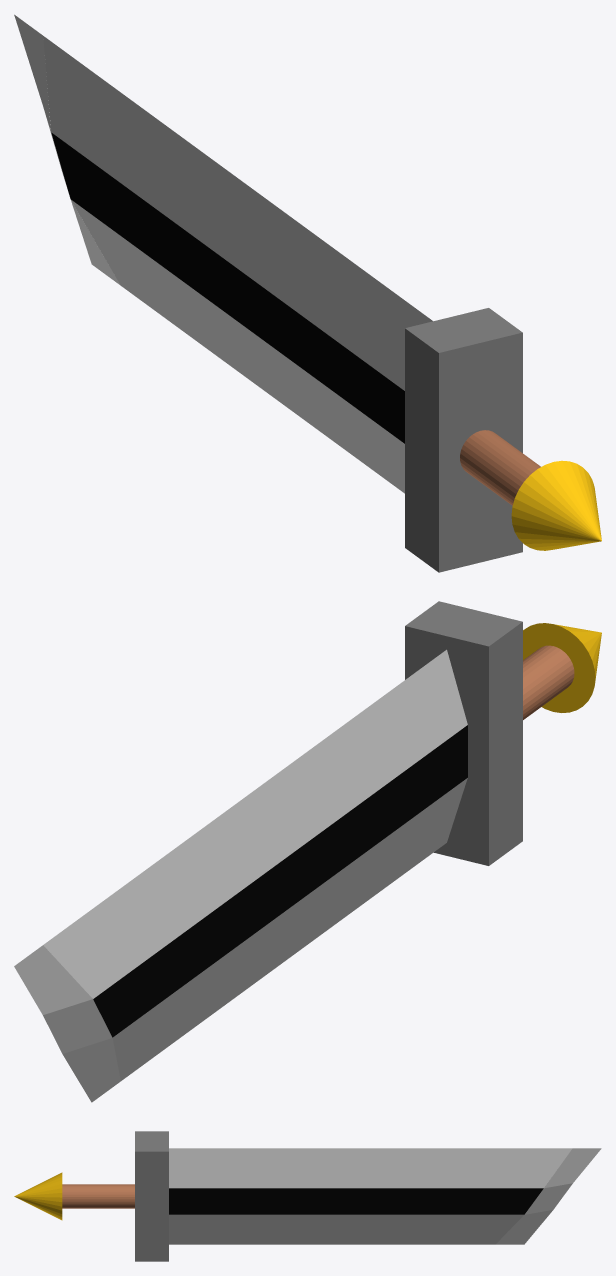
The model's file is bigsword.obj.
The picture shows the model from 3 angles, top to bottom: view 1: azimuth 30°, elevation 25°; view 2: azimuth 150°, elevation 25°; view 3: azimuth 270°, elevation 25°; orthographic projection. The views are drawn at different scales.
Parts seen in each view (by area): view 1: 立方體.007, 立方體.005, 立方體.006, 立方體.008, 圓錐體.001, 圓柱體.001, 立方體.009; view 2: 立方體.007, 立方體.006, 立方體.005, 立方體.008, 立方體.009, 圓錐體.001, 圓柱體.001; view 3: 立方體.007, 立方體.008, 立方體.006, 立方體.005, 立方體.009, 圓柱體.001, 圓錐體.001.
Part boxes in pixels (x1,y1,x2,y2): 立方體.007: (43, 36, 432, 390); 立方體.005: (405, 308, 522, 572); 立方體.006: (51, 132, 404, 443); 立方體.008: (71, 200, 404, 493); 圓錐體.001: (511, 460, 601, 550); 圓柱體.001: (460, 430, 540, 505); 立方體.009: (14, 14, 120, 285); 立方體.007: (43, 649, 467, 998); 立方體.006: (93, 725, 467, 1037); 立方體.005: (405, 601, 522, 865); 立方體.008: (112, 778, 467, 1080); 立方體.009: (14, 945, 120, 1102); 圓錐體.001: (523, 623, 601, 712); 圓柱體.001: (523, 645, 574, 719); 立方體.007: (169, 1148, 572, 1188); 立方體.008: (169, 1214, 523, 1244); 立方體.006: (169, 1188, 543, 1214); 立方體.005: (135, 1131, 168, 1261); 立方體.009: (496, 1148, 601, 1244); 圓柱體.001: (62, 1184, 134, 1208); 圓錐體.001: (14, 1172, 62, 1220).
Bounding box in the file's own units: 0.5 × 1.25 × 6.07.
Materials: 7 (7 with a texture image).
